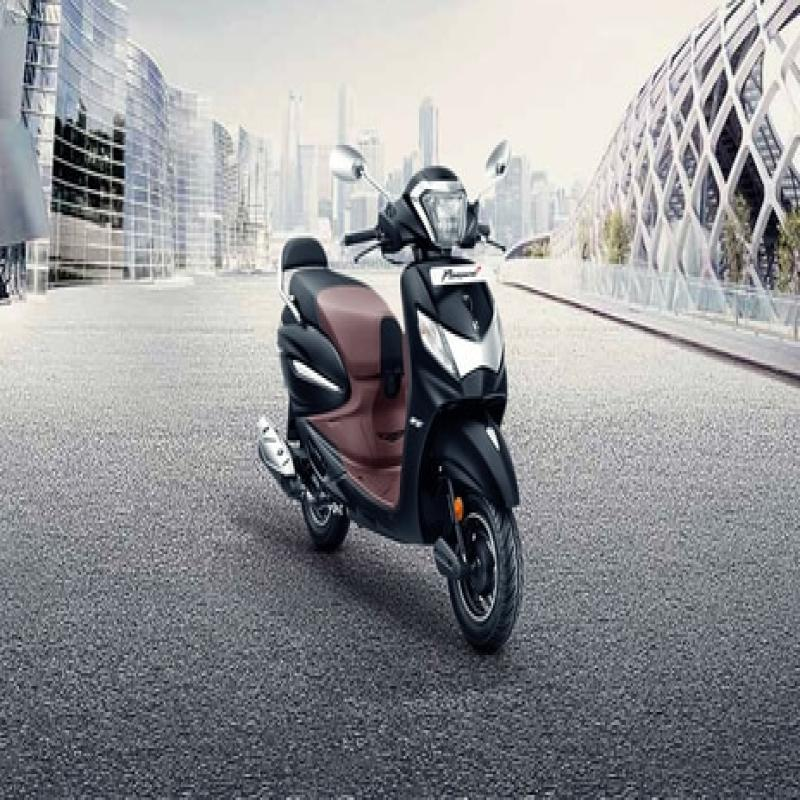bike: (246, 95, 542, 684)
